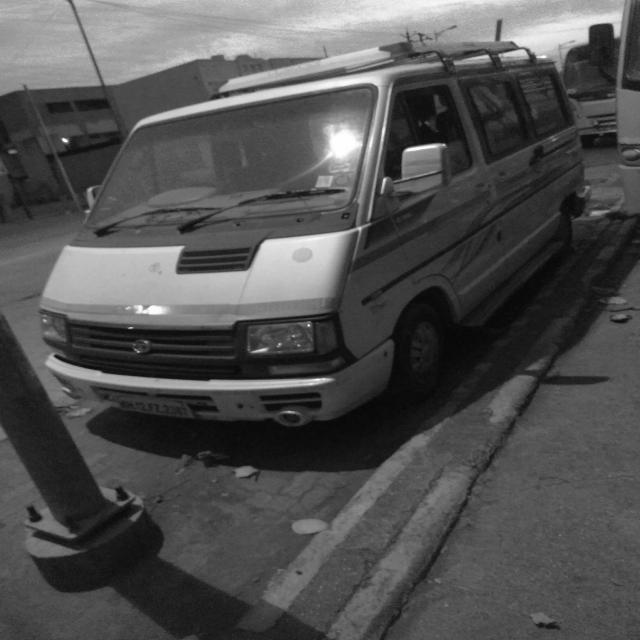Traveller: (40, 41, 587, 425)
